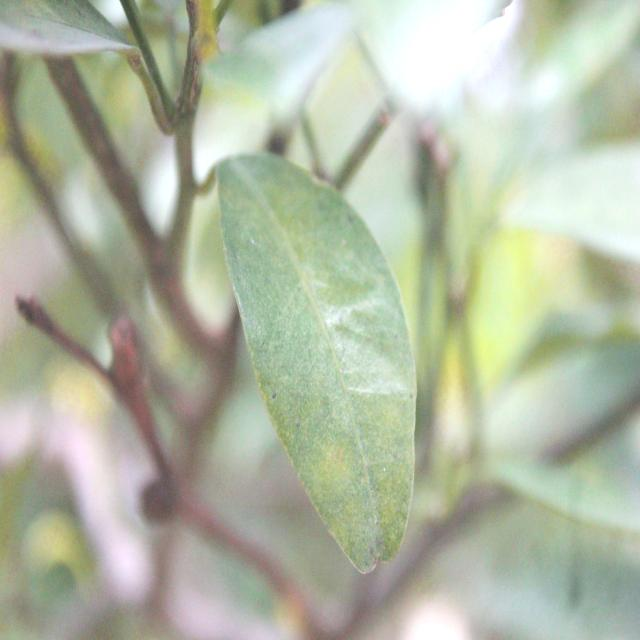blackspot: (221, 162, 424, 568)
